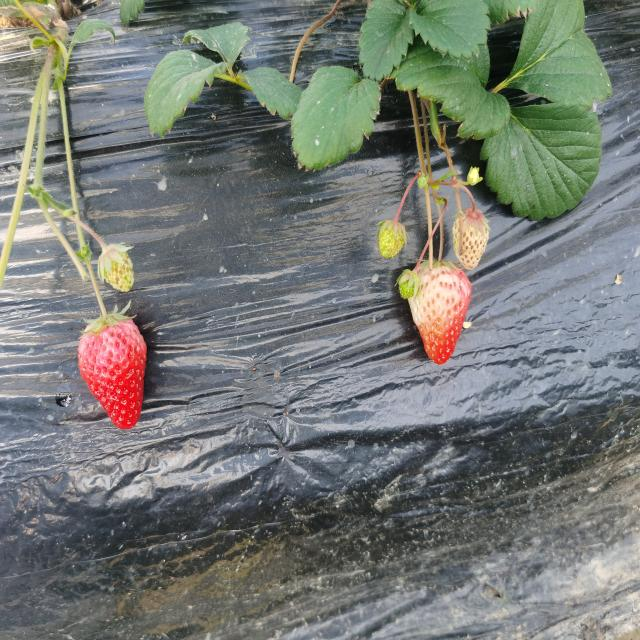stem: (94, 286, 108, 320), (438, 224, 443, 263)
strawberry: (78, 313, 146, 430), (409, 260, 471, 364)
